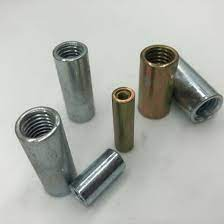Thread: (14, 104, 62, 147), (135, 44, 183, 73), (52, 39, 89, 69), (189, 95, 224, 125)
